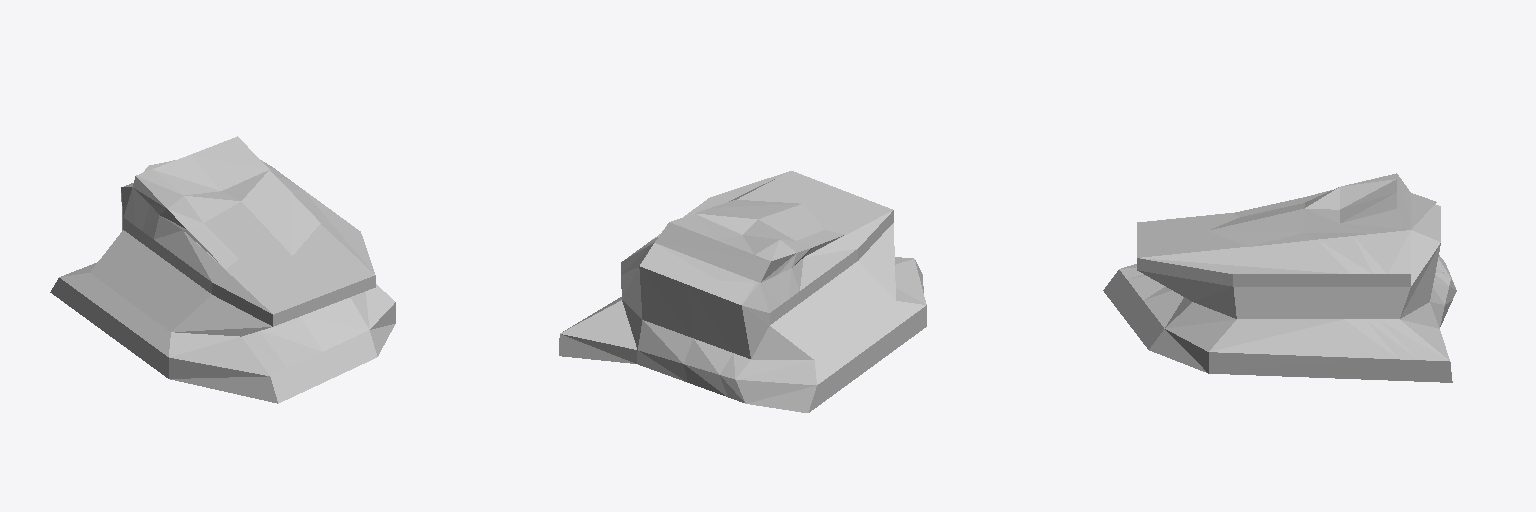
Rendered from bigRock2.obj.
3 views of the same model, side by side, from view 1: azimuth 30°, elevation 25°; view 2: azimuth 150°, elevation 25°; view 3: azimuth 270°, elevation 25° (orthographic).
Visible parts, largest first — view 1: pCube1; view 2: pCube1; view 3: pCube1.
Boxes of the visible parts, x1=… form: pCube1: x1=50, y1=136, x2=395, y2=403; pCube1: x1=559, y1=171, x2=926, y2=412; pCube1: x1=1103, y1=173, x2=1456, y2=382.
Bounding box in the file's own units: 1.24 × 0.6446 × 1.54.